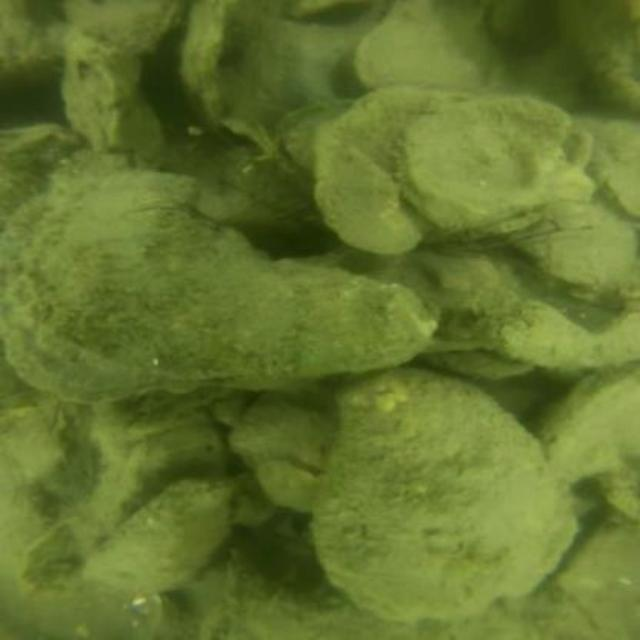Oyster-Closed: (1, 162, 428, 401), (319, 369, 565, 617), (394, 94, 599, 228), (226, 588, 638, 638), (309, 90, 427, 257), (86, 476, 233, 594), (352, 2, 498, 95), (544, 367, 637, 480), (228, 388, 337, 468), (80, 0, 178, 51)
